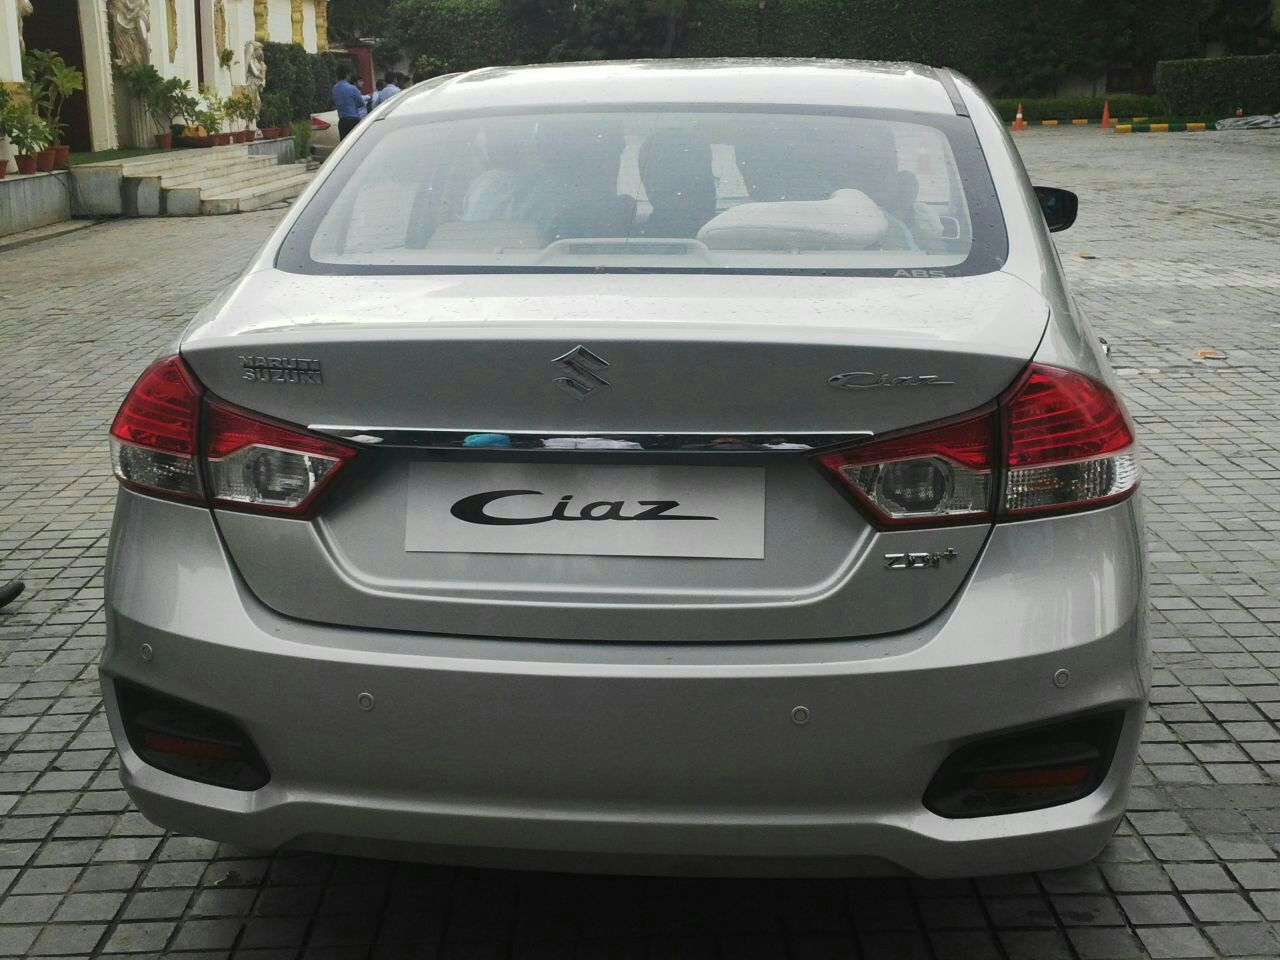car: (92, 40, 1159, 903)
